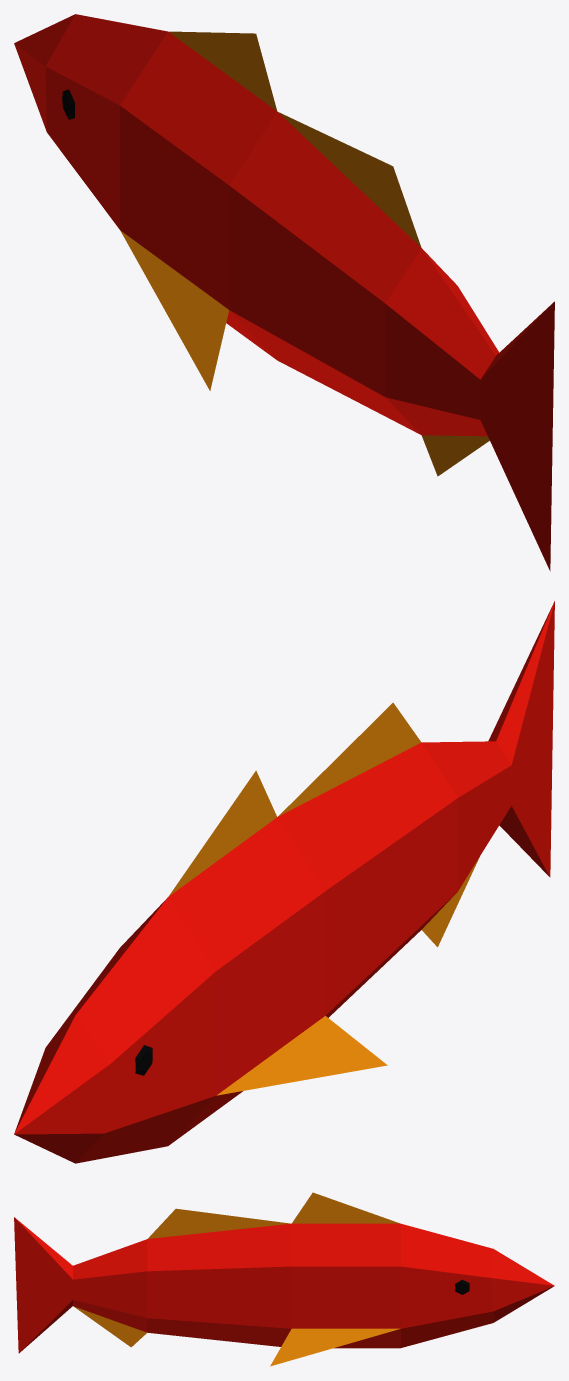
Rendered from fish.fbx.
3 views of the same model, one above another, from view 1: azimuth 30°, elevation 25°; view 2: azimuth 150°, elevation 25°; view 3: azimuth 270°, elevation 25° (orthographic). The views are drawn at different scales.
Parts seen in each view (by area): view 1: Fish1; view 2: Fish1; view 3: Fish1.
Boxes of the visible parts, x1,y1,x2,y2 form: Fish1: [14, 14, 554, 571]; Fish1: [14, 601, 554, 1163]; Fish1: [14, 1192, 554, 1366].
Bounding box in the file's own units: 149 × 259 × 787.
